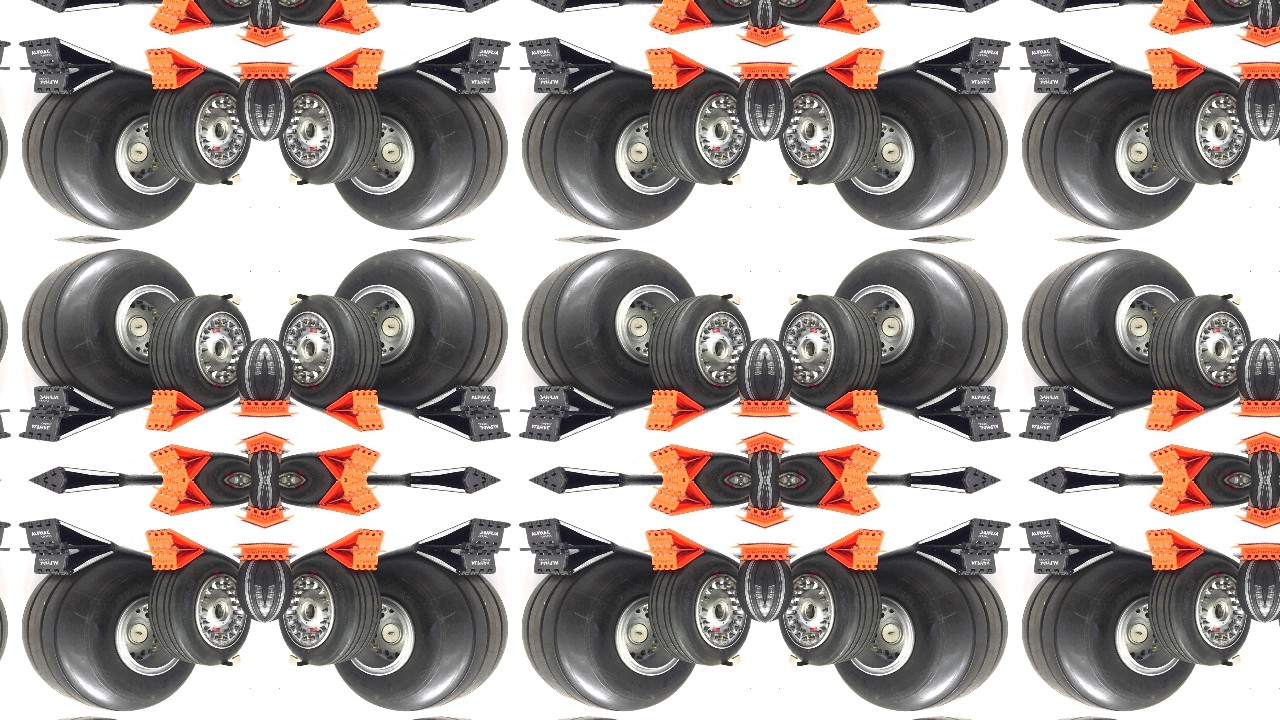chock: (14, 32, 121, 105), (408, 32, 515, 105), (515, 32, 622, 105), (908, 32, 1015, 105), (1015, 32, 1122, 105), (14, 374, 121, 447), (408, 374, 515, 447), (515, 374, 622, 447), (908, 374, 1015, 447), (1015, 374, 1122, 447), (14, 513, 121, 586), (408, 513, 515, 586), (515, 513, 622, 586), (908, 513, 1015, 586), (1015, 513, 1122, 586), (638, 525, 710, 578), (820, 525, 892, 578), (138, 525, 209, 578), (320, 525, 391, 578), (1139, 525, 1210, 578), (638, 44, 710, 96), (820, 44, 892, 96), (638, 383, 710, 435), (820, 383, 892, 435), (138, 44, 209, 96), (320, 44, 391, 96), (1139, 44, 1210, 96), (138, 383, 209, 435), (320, 383, 391, 435), (1139, 383, 1210, 435), (646, 480, 718, 522), (812, 480, 884, 522), (146, 480, 217, 522), (312, 480, 383, 522), (1147, 480, 1218, 522), (646, 439, 718, 480), (812, 439, 884, 480), (146, 439, 217, 480), (312, 439, 383, 480), (1147, 439, 1218, 480), (646, 0, 718, 40), (812, 0, 884, 40), (146, 0, 217, 40), (312, 0, 383, 40), (1147, 0, 1218, 40), (22, 480, 133, 504), (396, 480, 507, 504), (523, 480, 634, 504), (896, 480, 1007, 504), (1023, 480, 1134, 504), (22, 457, 133, 480), (396, 457, 507, 480), (523, 457, 634, 480), (896, 457, 1007, 480), (1023, 457, 1134, 480), (22, 0, 133, 22), (396, 0, 507, 22), (523, 0, 634, 22), (896, 0, 1007, 22), (1023, 0, 1134, 22), (264, 56, 300, 85), (729, 56, 765, 85), (765, 56, 801, 85), (264, 394, 300, 423), (729, 394, 765, 423), (765, 394, 801, 423), (264, 537, 300, 566), (729, 537, 765, 566), (765, 537, 801, 566), (0, 32, 14, 105), (0, 374, 14, 447), (0, 513, 14, 586), (229, 56, 264, 85), (1230, 56, 1265, 85), (229, 394, 264, 423), (1230, 394, 1265, 423), (229, 537, 264, 566), (1230, 537, 1265, 566), (233, 503, 265, 533), (1234, 503, 1266, 533), (265, 503, 296, 533), (734, 503, 765, 533), (765, 503, 796, 533), (233, 22, 265, 51), (1234, 22, 1266, 51), (233, 428, 265, 457), (1234, 428, 1266, 457), (265, 22, 296, 51), (734, 22, 765, 51), (765, 22, 796, 51), (265, 428, 296, 457), (734, 428, 765, 457), (765, 428, 796, 457), (1266, 503, 1280, 533), (1266, 56, 1280, 85), (1266, 22, 1280, 51), (1266, 394, 1280, 423), (1266, 428, 1280, 457), (1266, 537, 1280, 566), (0, 480, 6, 504), (0, 457, 6, 480), (0, 0, 6, 22)
wheel: (14, 239, 211, 422), (318, 239, 515, 422), (1015, 239, 1212, 422), (515, 239, 711, 422), (819, 239, 1015, 422), (14, 57, 211, 239), (318, 57, 515, 239), (1015, 57, 1212, 239), (515, 57, 711, 239), (819, 57, 1015, 239), (14, 539, 211, 720), (318, 539, 515, 720), (1015, 539, 1212, 720), (515, 539, 711, 720), (819, 539, 1015, 720), (143, 550, 258, 671), (271, 550, 386, 671), (644, 550, 759, 671), (771, 550, 886, 671), (1144, 550, 1259, 671), (143, 69, 258, 189), (271, 69, 386, 189), (644, 69, 759, 189), (771, 69, 886, 189), (1144, 69, 1259, 189), (143, 290, 258, 410), (271, 290, 386, 410), (644, 290, 759, 410), (771, 290, 886, 410), (1144, 290, 1259, 410), (229, 68, 265, 146), (1230, 68, 1266, 146), (229, 333, 265, 411), (1230, 333, 1266, 411), (229, 550, 265, 627), (1230, 550, 1266, 627), (265, 68, 300, 146), (730, 68, 765, 146), (765, 68, 800, 146), (265, 333, 300, 411), (730, 333, 765, 411), (765, 333, 800, 411), (265, 550, 300, 627), (730, 550, 765, 627), (765, 550, 800, 627), (0, 239, 14, 422), (0, 57, 14, 239), (0, 539, 14, 720), (1266, 68, 1280, 146), (1266, 333, 1280, 411), (1266, 550, 1280, 627), (1272, 550, 1280, 671), (1272, 69, 1280, 189), (1272, 290, 1280, 410)
